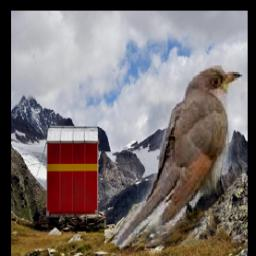Cuckoo: (115, 67, 242, 248)
